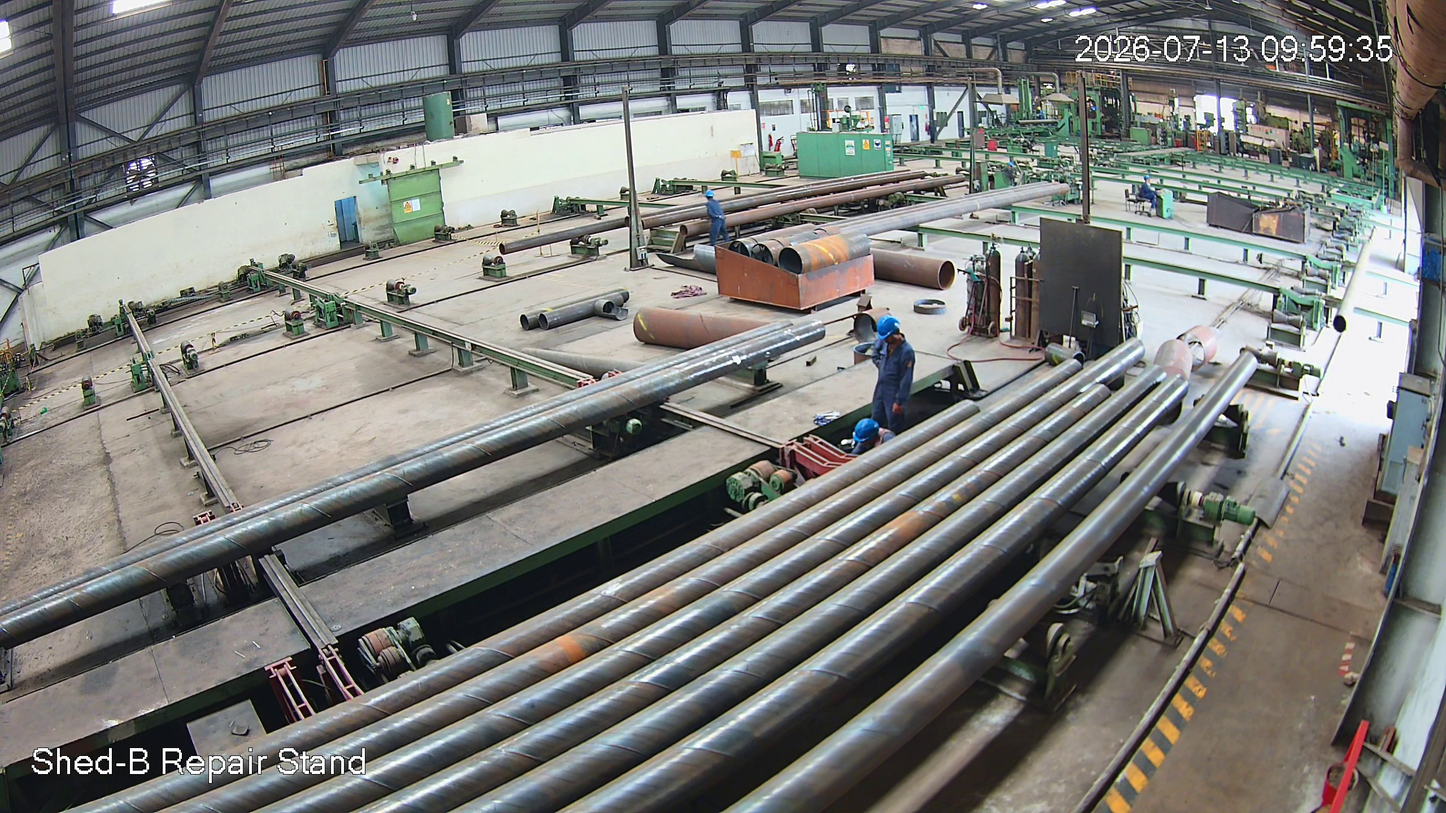Helmet: (849, 416, 887, 446), (875, 314, 905, 350), (705, 189, 717, 201)
Person: (869, 316, 916, 432), (844, 418, 902, 458), (704, 190, 728, 247)
